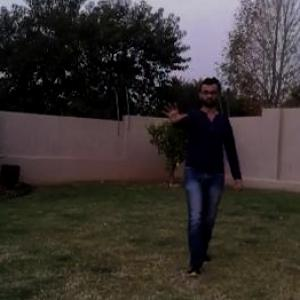follow_hand: (157, 95, 189, 127)
